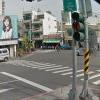traffic lights: (70, 12, 88, 44)
